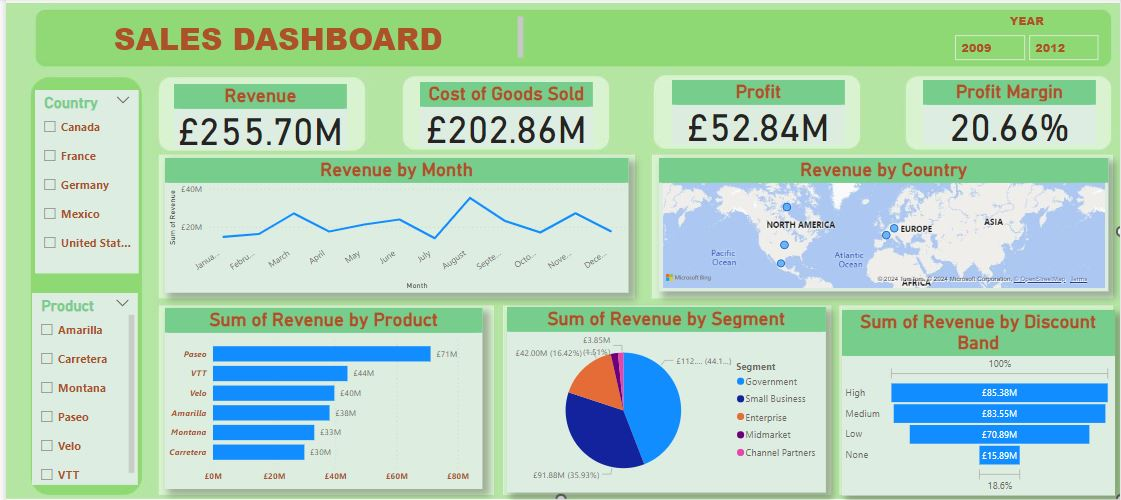

The page's visual inventory and layout, read from the dashboard file:
{"tool":"powerbi","page":{"name":"Page 1","canvas":[1580,720],"ordinal":0},"visuals":[{"type":"card","title":"Revenue","fields":{"Values":["Sum(EYO (2).Revenue)"]},"box":[238.3,120,245.4,91.8],"z":0},{"type":"card","title":"Cost of Goods Sold","fields":{"Values":["Sum(EYO (2).COGS)"]},"box":[586.1,118.3,245.4,91.8],"z":1000},{"type":"card","title":"Profit","fields":{"Values":["Sum(EYO (2).Profit)"]},"box":[943.9,114.8,245.2,92.1],"z":2000},{"type":"clusteredBarChart","fields":{"Category":["EYO (2).Product"],"Y":["Sum(EYO (2).Revenue)"]},"box":[226,437.8,450.2,256],"z":3000},{"type":"lineChart","title":"Revenue by Month","fields":{"Category":["EYO (2).Order Date.Variation.Date Hierarchy.Month"],"Y":["Sum(EYO (2).Revenue)"]},"box":[226,226,656.7,190.7],"z":4000},{"type":"map","title":"Revenue by Country","fields":{"Category":["EYO (2).Country"],"Size":["Sum(EYO (2).Revenue)"]},"box":[925.1,226,637.3,188.9],"z":5000},{"type":"pieChart","fields":{"Category":["EYO (2).Segment"],"Y":["Sum(EYO (2).Revenue)"]},"box":[709.7,436,451.9,263],"z":6000},{"type":"funnel","fields":{"Y":["Sum(EYO (2).Revenue)"],"Category":["EYO (2).Discount Band"]},"box":[1184.6,441.3,386.6,263],"z":7000},{"type":"slicer","fields":{"Values":["EYO (2).Country"]},"box":[40.6,128.9,146.5,259.5],"z":8000},{"type":"slicer","fields":{"Values":["EYO (2).Product"]},"box":[37.1,416.6,150.1,271.9],"z":9000},{"type":"card","title":"Profit Margin","fields":{"Values":["EYO (2).Profit Margin"]},"box":[1299.3,114.7,245.4,91.8],"z":10000},{"type":"textbox","box":[40.6,19.4,697.3,68.8],"z":10001},{"type":"slicer","fields":{"Values":["EYO (2).Order Date.Variation.Date Hierarchy.Quarter"]},"box":[1147.5,19.6,399.9,69.5],"z":10002}]}

Visuals, with their boxes in screenshot pixels (x1, y1, x2, y2), scaled from the page's 1580x720 canvas onto the 1121x500 screenshot:
"Revenue" card: x1=169 y1=83 x2=343 y2=147
"Cost of Goods Sold" card: x1=416 y1=82 x2=590 y2=146
"Profit" card: x1=670 y1=80 x2=844 y2=144
clusteredBarChart - EYO (2).Product x Sum(EYO (2).Revenue): x1=160 y1=304 x2=480 y2=482
"Revenue by Month" lineChart: x1=160 y1=157 x2=626 y2=289
"Revenue by Country" map: x1=656 y1=157 x2=1109 y2=288
pieChart - EYO (2).Segment x Sum(EYO (2).Revenue): x1=504 y1=303 x2=824 y2=485
funnel - Sum(EYO (2).Revenue) x EYO (2).Discount Band: x1=840 y1=306 x2=1115 y2=489
slicer - EYO (2).Country: x1=29 y1=90 x2=133 y2=270
slicer - EYO (2).Product: x1=26 y1=289 x2=133 y2=478
"Profit Margin" card: x1=922 y1=80 x2=1096 y2=143
textbox: x1=29 y1=13 x2=524 y2=61
slicer - EYO (2).Order Date.Variation.Date Hierarchy.Quarter: x1=814 y1=14 x2=1098 y2=62
